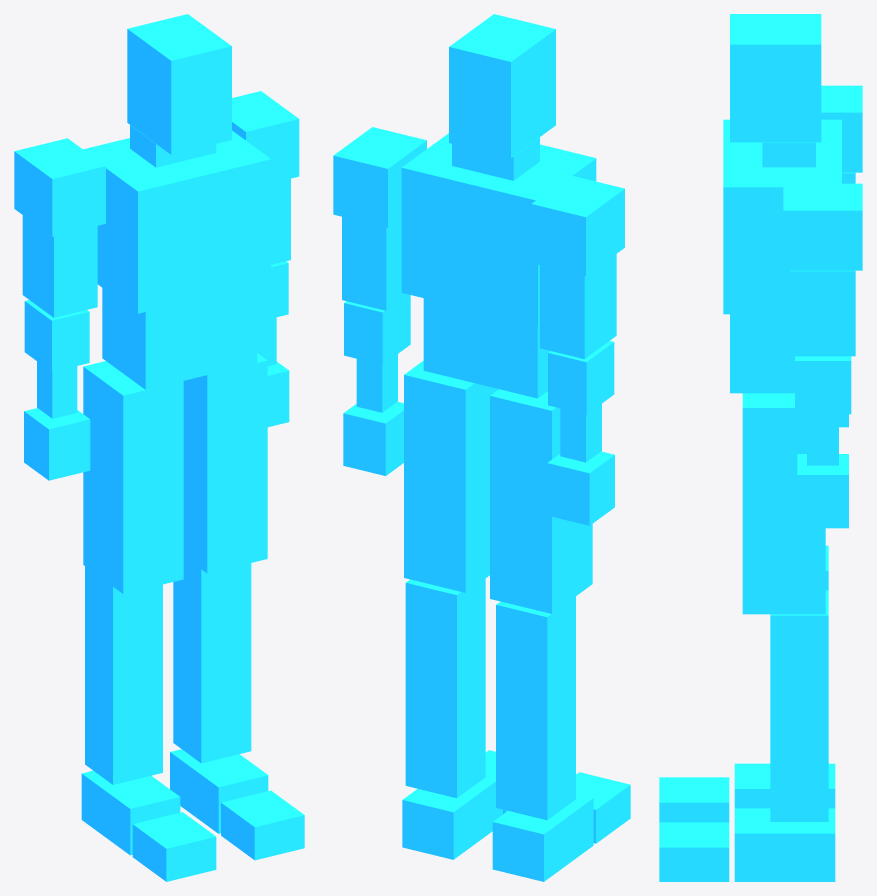
File: boxChar1.gltf
3 renders of one model, left to right at view 1: azimuth 30°, elevation 25°; view 2: azimuth 150°, elevation 25°; view 3: azimuth 270°, elevation 25°, orthographic. The views are drawn at different scales.
Visible parts, largest first — view 1: Char1; view 2: Char1; view 3: Char1.
Boxes of the visible parts, <box> form: Char1: <box>14,14,304,881</box>; Char1: <box>333,14,630,881</box>; Char1: <box>659,14,862,881</box>.
Bounding box in the file's own units: 0.6553 × 2 × 0.4503.
